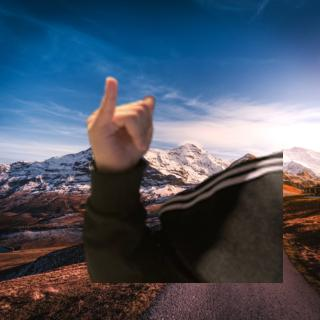HAVE: (78, 72, 161, 168)
